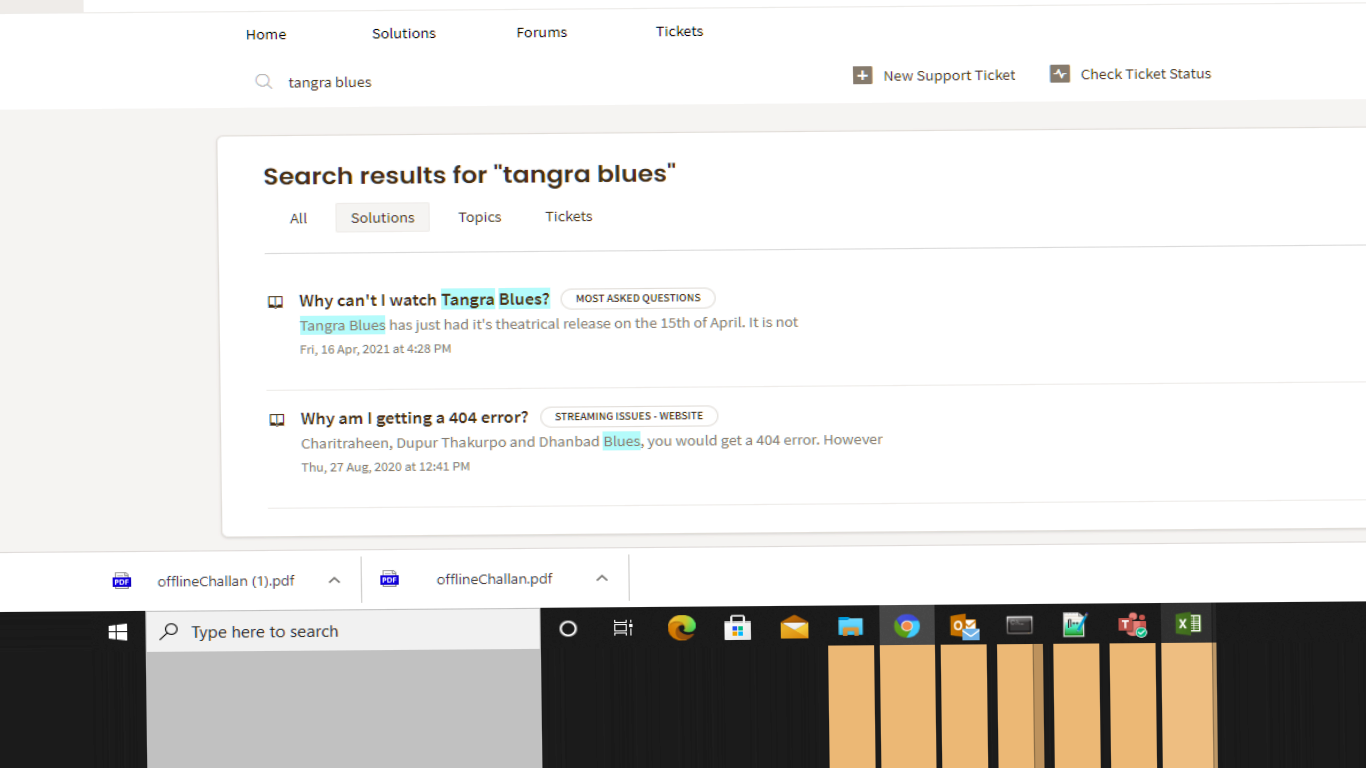resultsfound: (241, 140, 692, 197)
searchicon: (246, 70, 285, 96)
searchtextbox: (246, 57, 772, 103)
